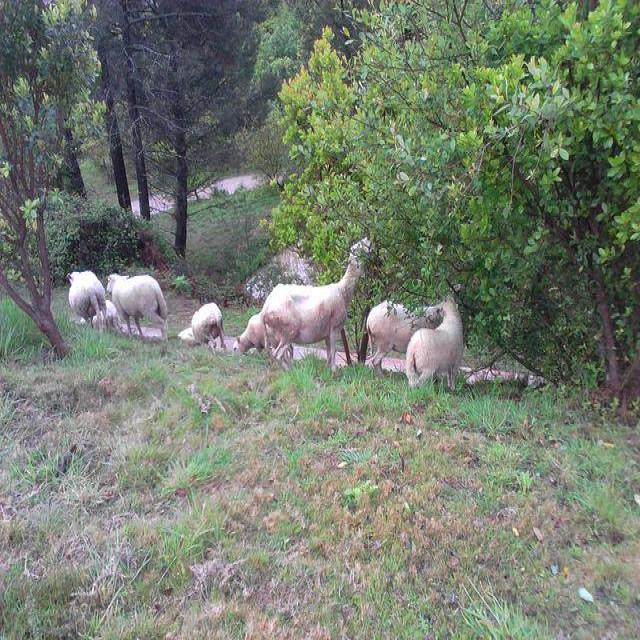Sheep: (259, 240, 377, 383), (367, 283, 464, 377), (405, 304, 464, 397), (107, 274, 170, 346), (67, 271, 110, 333), (232, 308, 272, 359), (191, 303, 228, 349)
